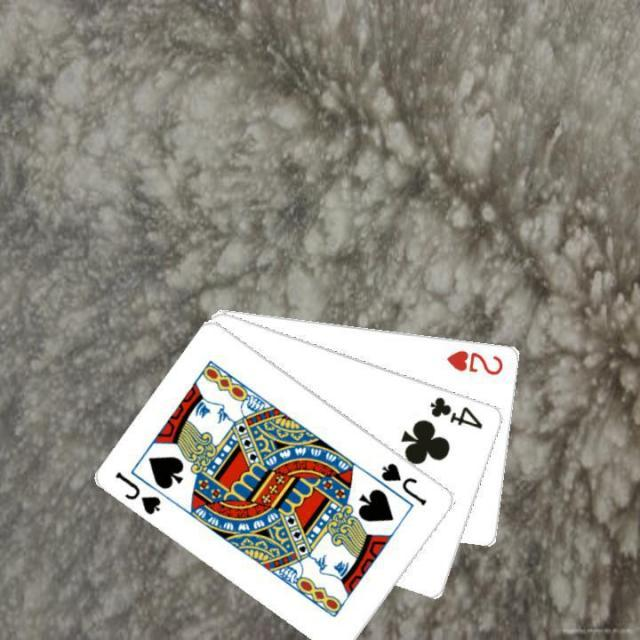2H: (443, 346, 506, 377)
4C: (427, 393, 485, 431)
JS: (111, 468, 163, 518), (377, 459, 429, 508)
